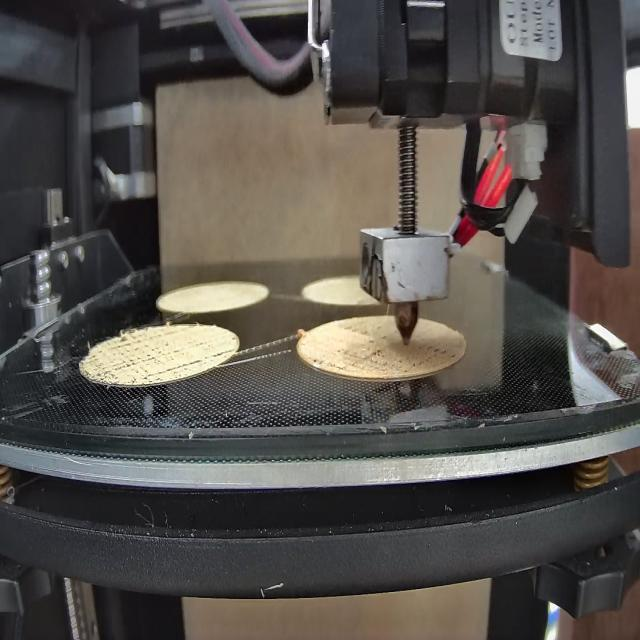under_extrusion: (87, 332, 199, 384), (314, 340, 462, 378), (338, 318, 391, 337), (207, 342, 237, 364)
